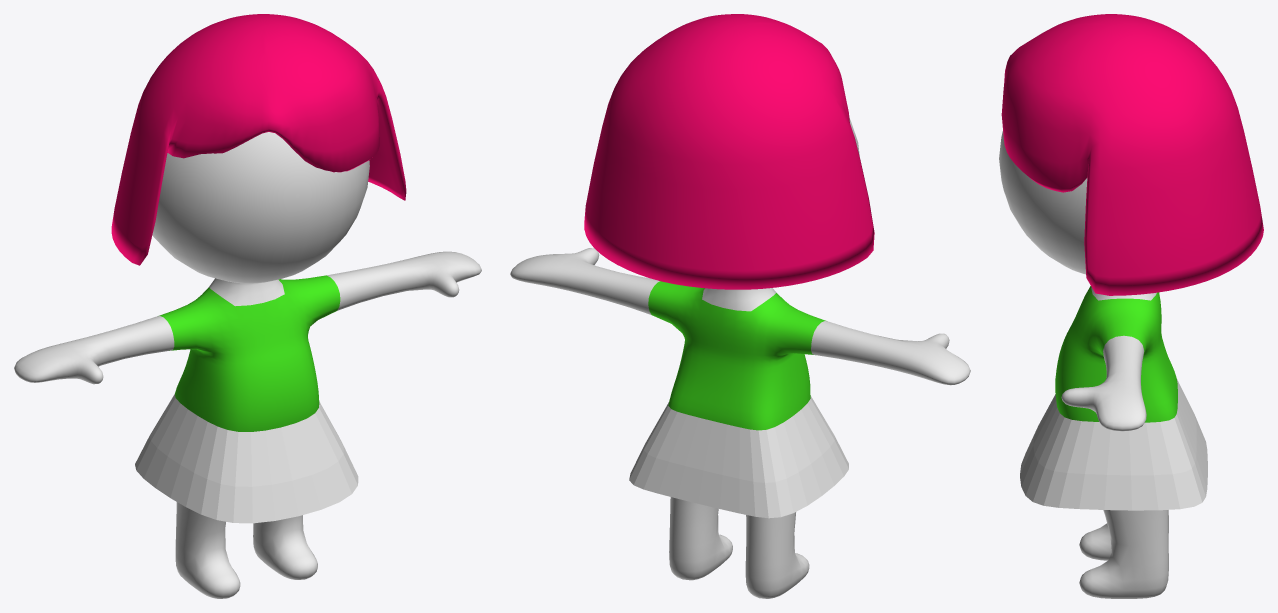
Rendered from _irl 2.fbx.
3 renders of one model, left to right at view 1: azimuth 30°, elevation 25°; view 2: azimuth 150°, elevation 25°; view 3: azimuth 270°, elevation 25°, orthographic.
Parts seen in each view (by area): view 1: Cube, Sphere.001, Sphere, Cube.001; view 2: Sphere.001, Cube, Cube.001; view 3: Sphere.001, Cube, Cube.001, Sphere.
Boxes of the visible parts, x1,y1,x2,y2 form: Cube: [14, 251, 481, 598]; Sphere.001: [111, 14, 406, 265]; Sphere: [152, 132, 369, 283]; Cube.001: [135, 394, 358, 523]; Sphere.001: [584, 14, 874, 289]; Cube: [510, 248, 970, 598]; Cube.001: [629, 396, 848, 518]; Sphere.001: [1001, 14, 1263, 295]; Cube: [1055, 286, 1177, 598]; Cube.001: [1020, 378, 1207, 510]; Sphere: [999, 131, 1087, 274].
Bounding box in the file's own units: 746 × 864 × 373.
